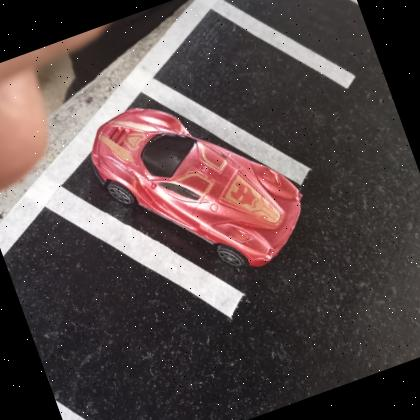Car: (91, 108, 303, 268)
